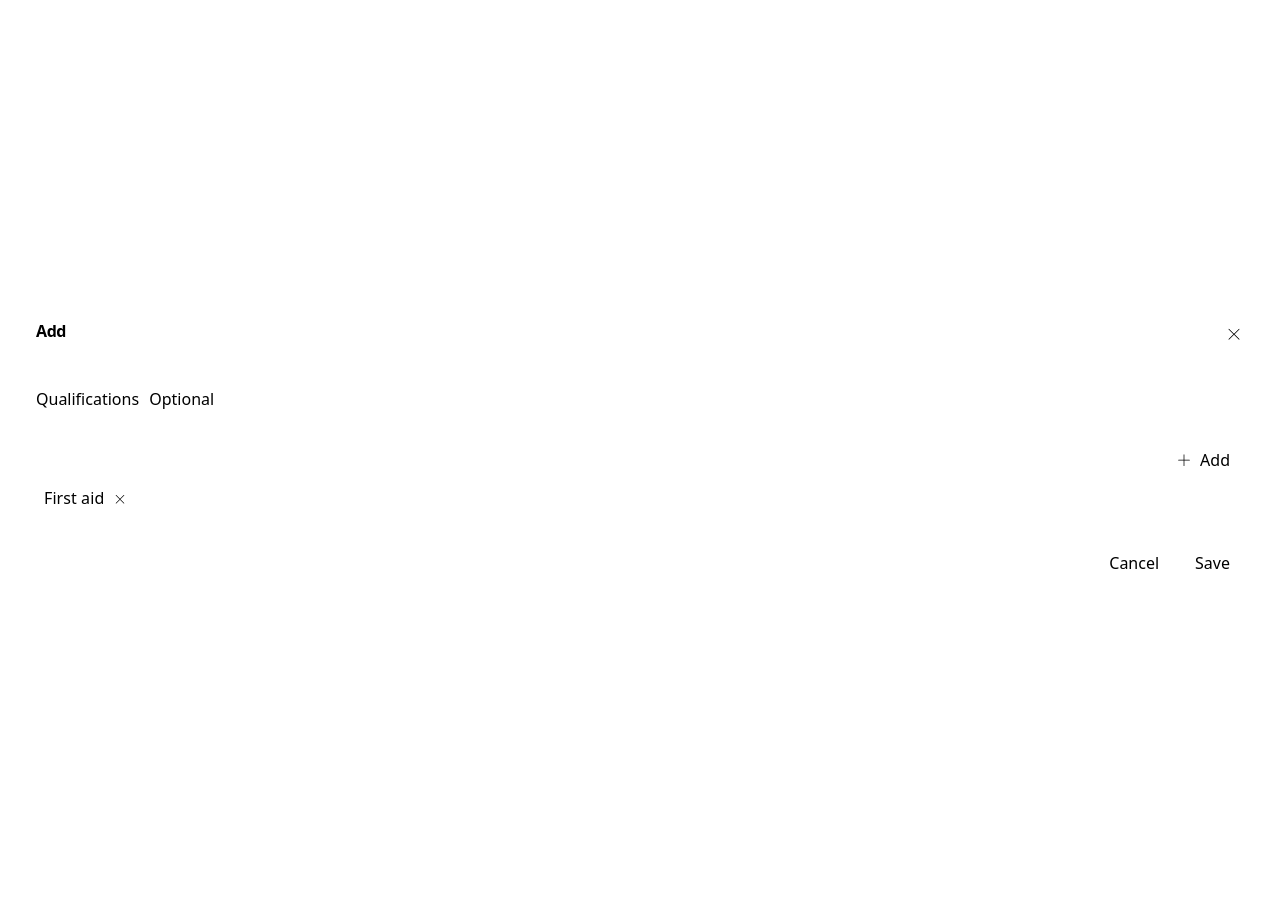
Test: TagField dirty › removing a chip without typing marks the dialog dirty
Click the button named "remove" at (120, 499), box [110,489,130,509]
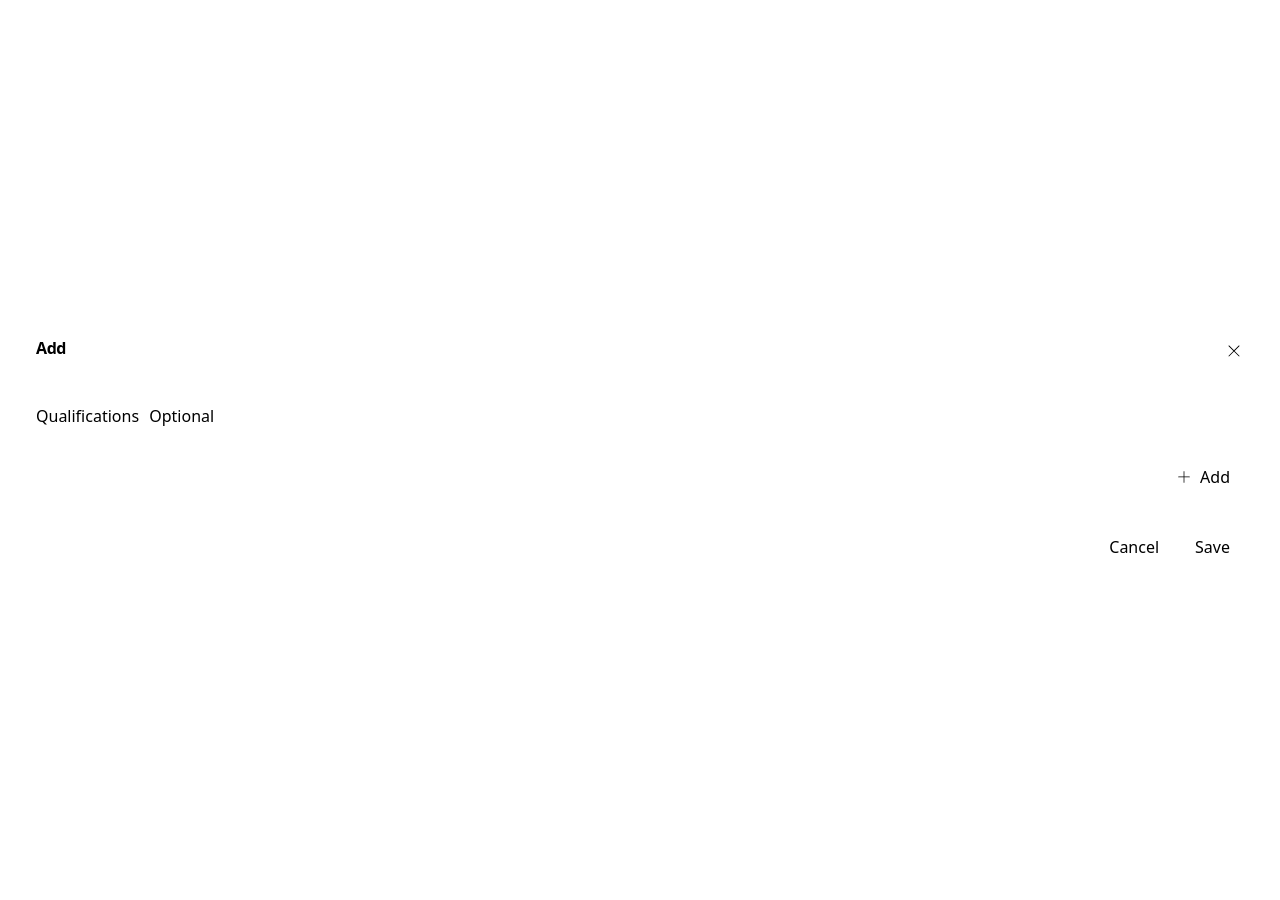
Press Escape
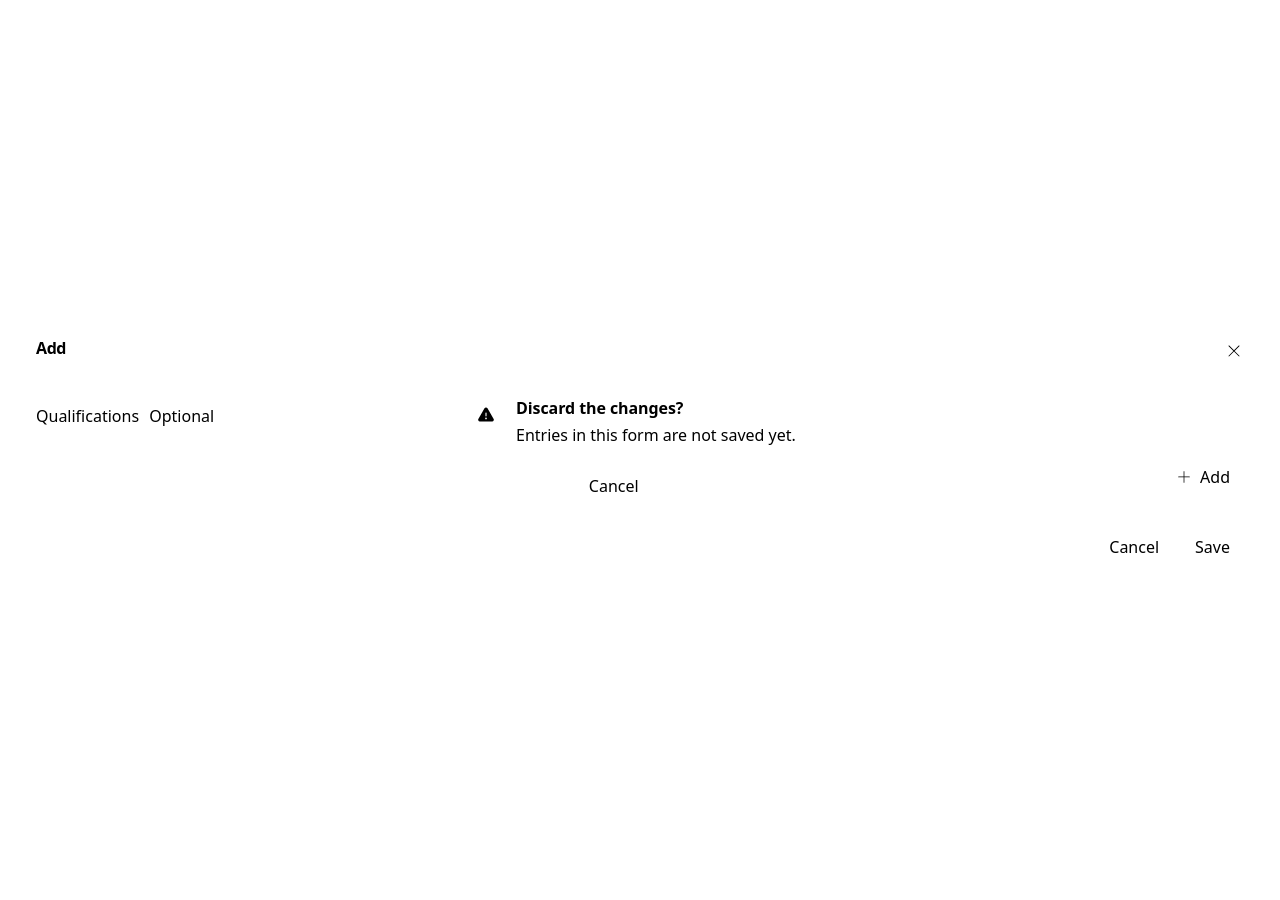
Check: the dialog that starts with "Discard the changes?" is shown, box [448,377,832,523]
